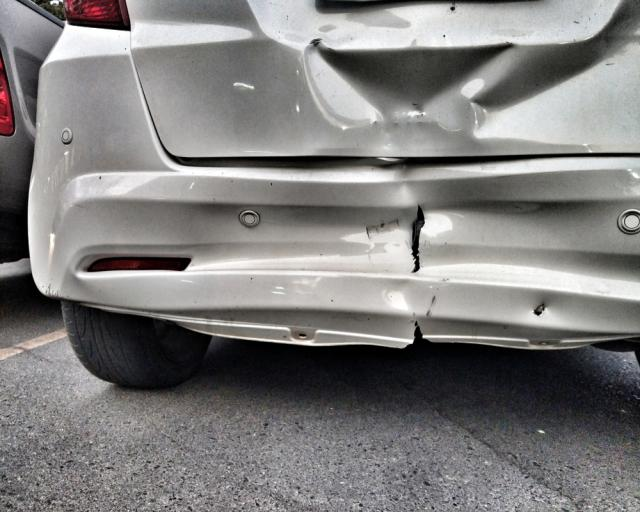crack: (410, 203, 427, 274), (412, 320, 431, 344)
dent: (306, 39, 516, 130)
